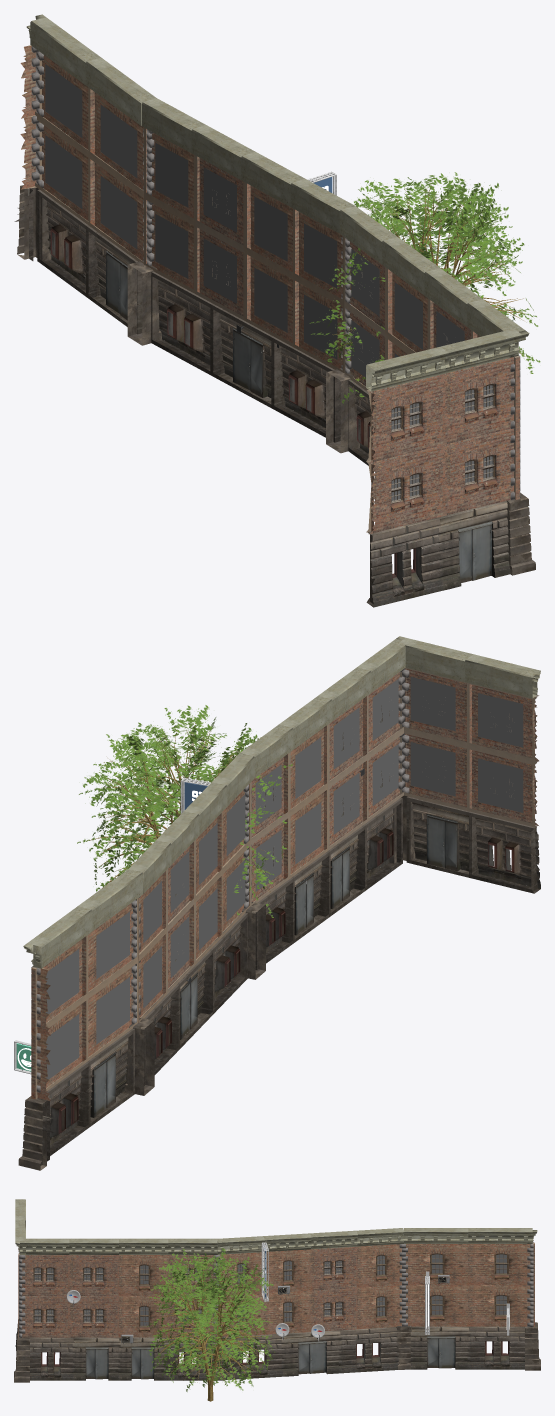
Rendered from cityscene_01.gltf.
3 views of the same model, one above another, from view 1: azimuth 30°, elevation 25°; view 2: azimuth 150°, elevation 25°; view 3: azimuth 270°, elevation 25° (orthographic). The views are drawn at different scales.
Parts seen in each view (by area): view 1: cityscene_01; view 2: cityscene_01; view 3: cityscene_01.
Part boxes in pixels (x1,y1,x2,y2): cityscene_01: [14, 14, 540, 607]; cityscene_01: [14, 636, 540, 1170]; cityscene_01: [14, 1199, 540, 1401].
Bounding box in the file's own units: 14.3 × 10.41 × 34.62.
21 materials, 17 textured.
